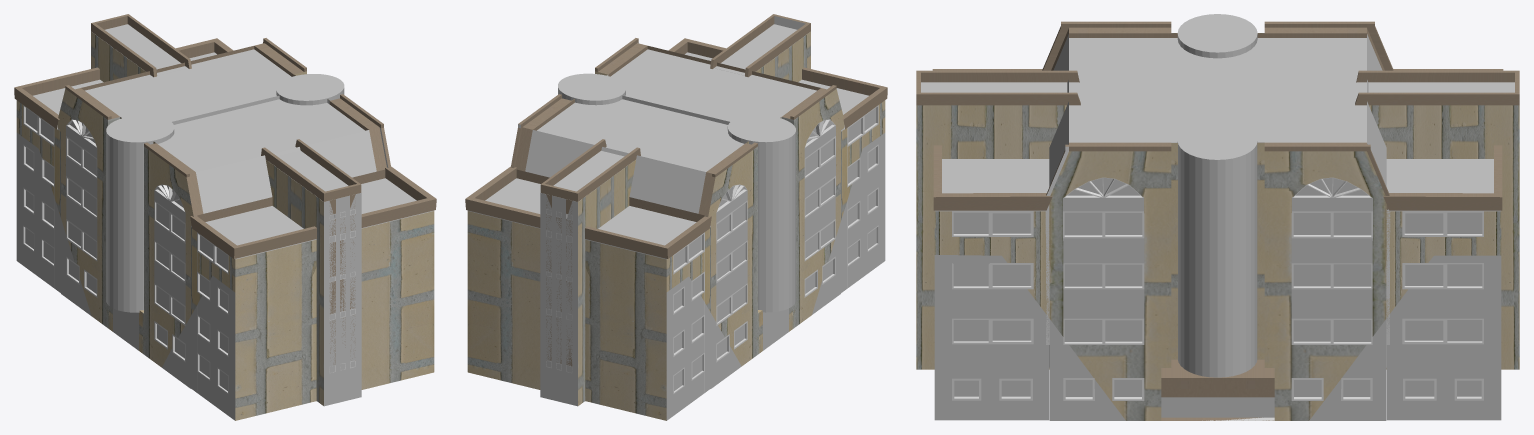
The model's file is Build_Fani.fbx.
3 renders of one model, left to right at view 1: azimuth 30°, elevation 25°; view 2: azimuth 150°, elevation 25°; view 3: azimuth 270°, elevation 25°, orthographic. The views are drawn at different scales.
Parts seen in each view (by area): view 1: Build, Glass2; view 2: Build, Glass2; view 3: Build, Glass2.
Boxes of the visible parts, x1=… form: Build: x1=14, y1=14, x2=436, y2=420; Glass2: x1=106, y1=74, x2=344, y2=312; Build: x1=465, y1=14, x2=887, y2=420; Glass2: x1=558, y1=73, x2=795, y2=312; Build: x1=916, y1=21, x2=1519, y2=420; Glass2: x1=1177, y1=14, x2=1257, y2=377.
Size of the model in its own units: 6000 by 3440 by 3028.
